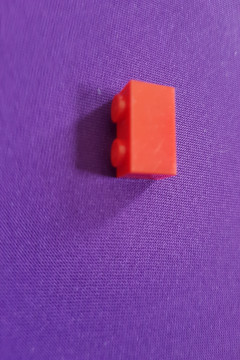1x2 red: (104, 78, 178, 181)
